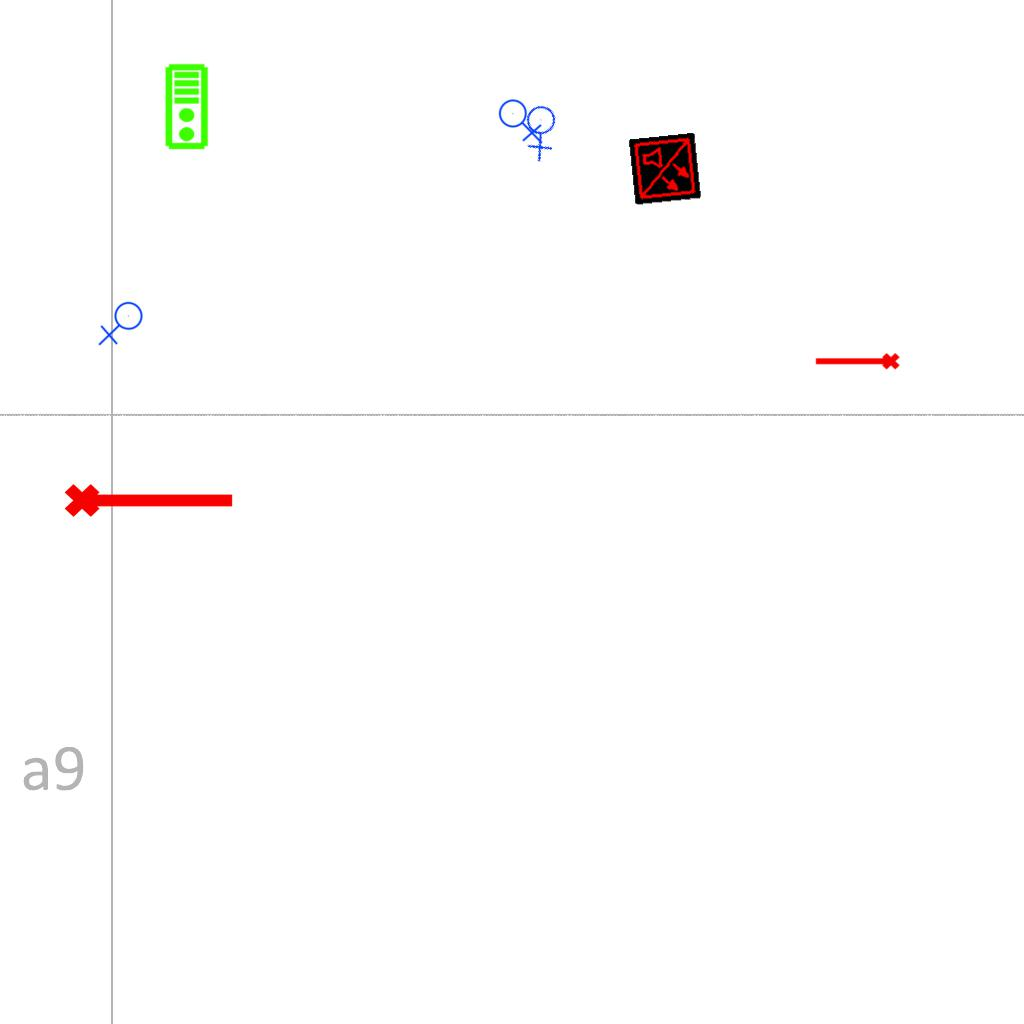ASR_Ansaugoeffnung: (62, 475, 238, 521), (813, 351, 901, 374)
Elektroanschluss_allgemein_230V_Geraeteanschlussdose_230V: (508, 96, 577, 165), (98, 301, 147, 348), (498, 95, 545, 144)
Gegensprechanlage_mit_Video: (164, 63, 211, 151)
OKW_Multisensormelder_(Kombination_optischer_Rauch-Kahlenmonoxid_Waerme-Melder): (628, 132, 702, 206)
